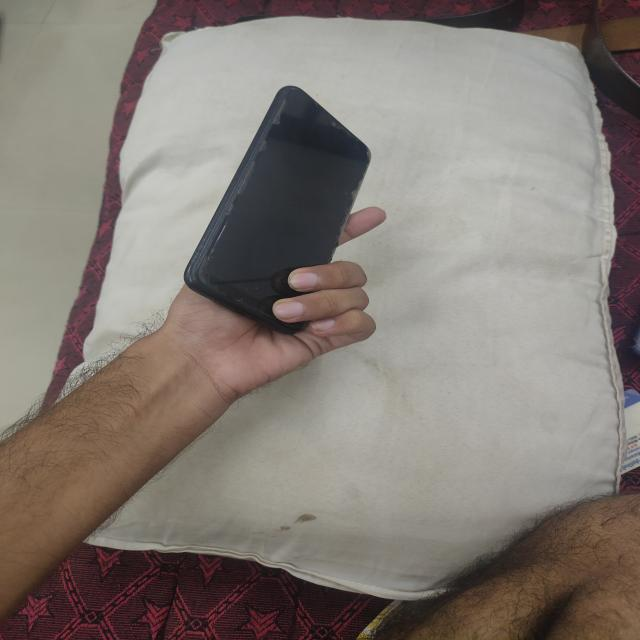Phone: (177, 82, 374, 340)
